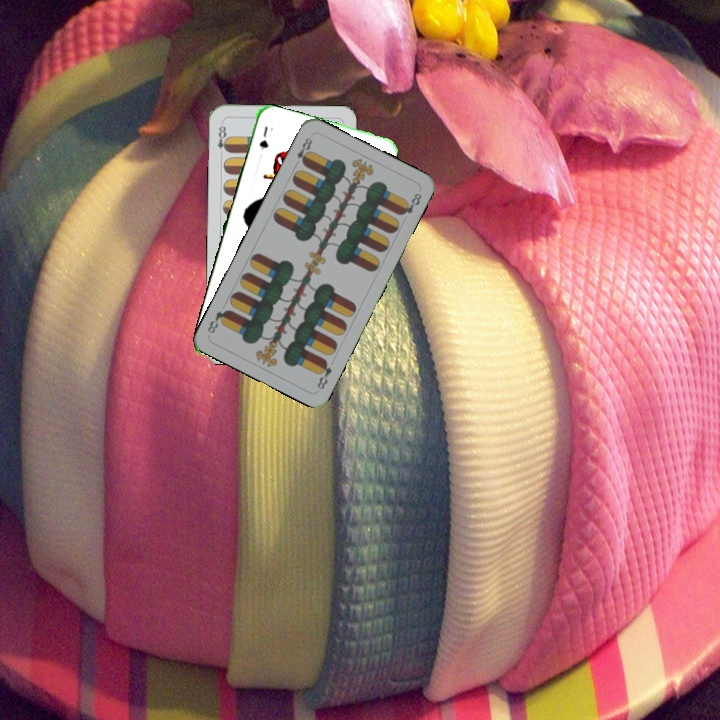E8: (313, 356, 335, 392), (293, 133, 315, 167), (214, 119, 231, 159)
GU: (255, 122, 270, 152)
